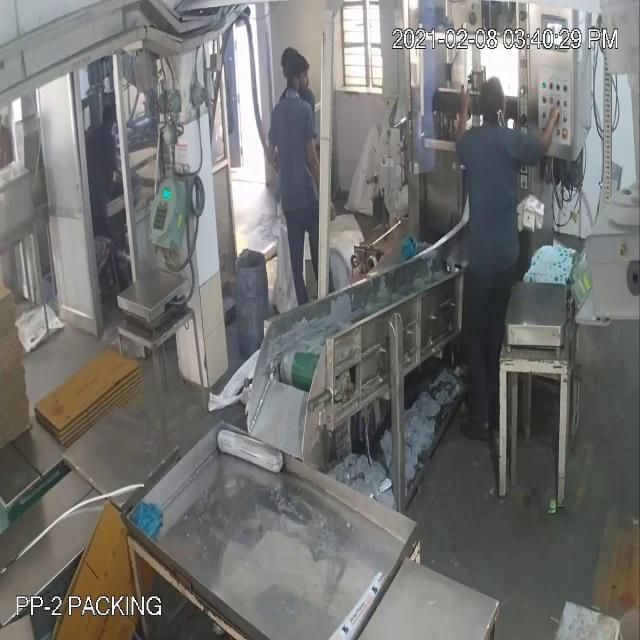No_Gloves: (21, 59, 554, 121)
